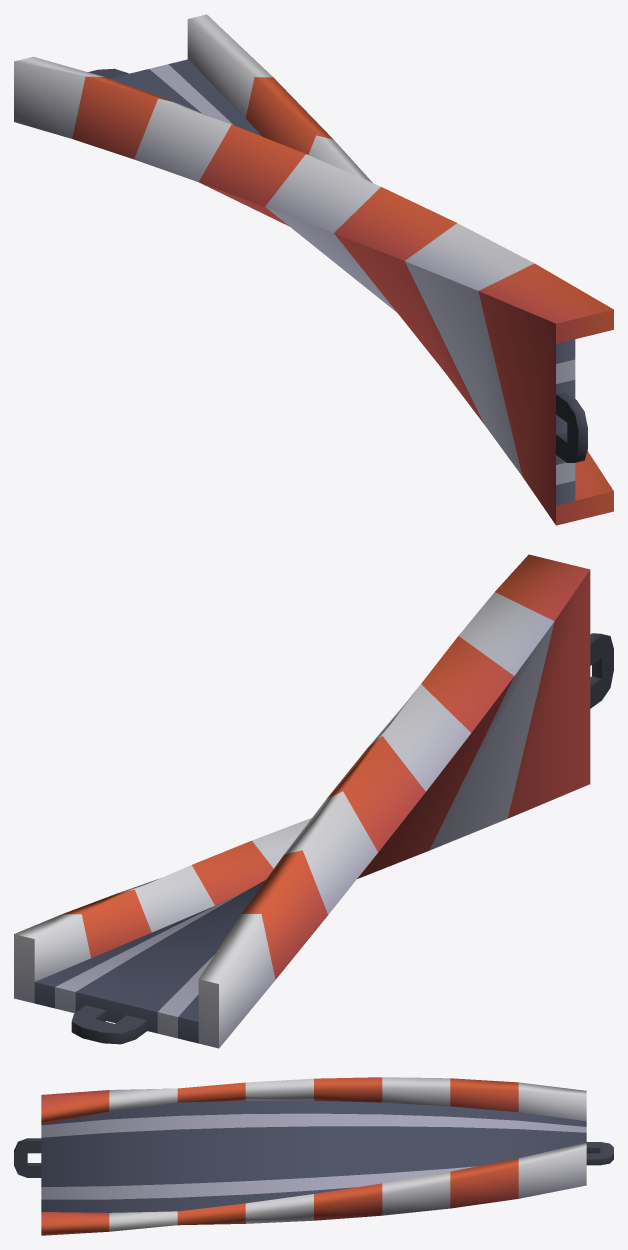
File: track-road-narrow-straight-skew-left-side.glb
3 renders of one model, top to bottom at view 1: azimuth 30°, elevation 25°; view 2: azimuth 150°, elevation 25°; view 3: azimuth 270°, elevation 25°, orthographic. The views are drawn at different scales.
Visible parts, largest first — view 1: track-road-narrow-straight-skew-left-side; view 2: track-road-narrow-straight-skew-left-side; view 3: track-road-narrow-straight-skew-left-side.
Part boxes in pixels (bbox=[...]): track-road-narrow-straight-skew-left-side: bbox=[14, 14, 613, 525]; track-road-narrow-straight-skew-left-side: bbox=[14, 554, 613, 1048]; track-road-narrow-straight-skew-left-side: bbox=[14, 1077, 613, 1235].
Bounding box in the file's own units: 1.08 × 1.08 × 4.4.
